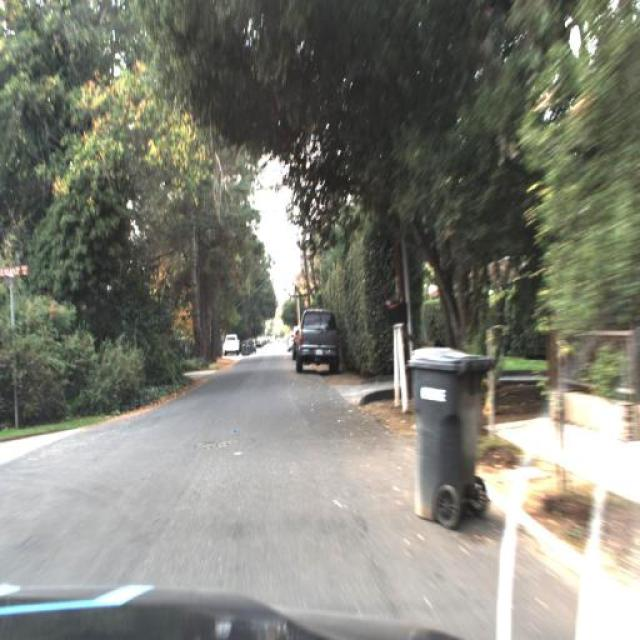car: (292, 306, 343, 375), (220, 329, 241, 365)
